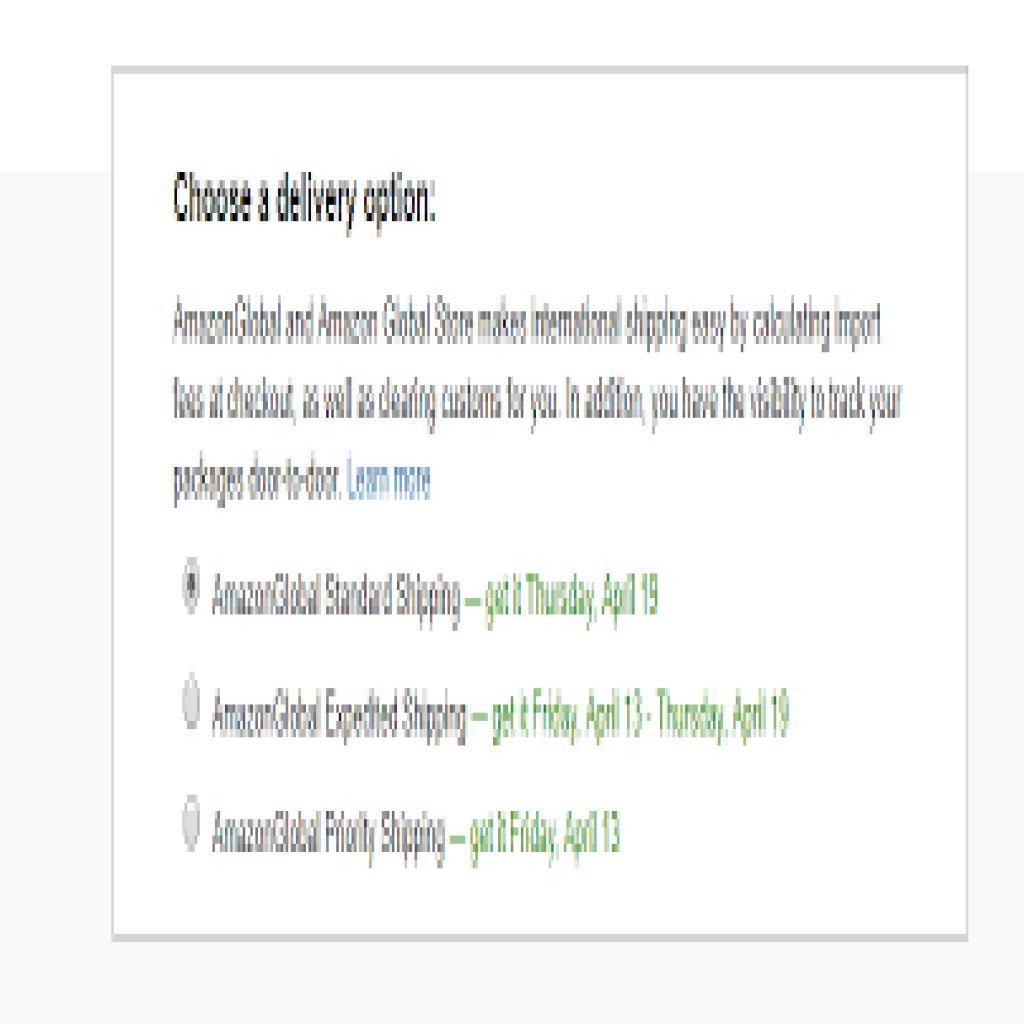radio: (182, 672, 204, 735), (181, 796, 203, 854), (183, 560, 204, 618)
